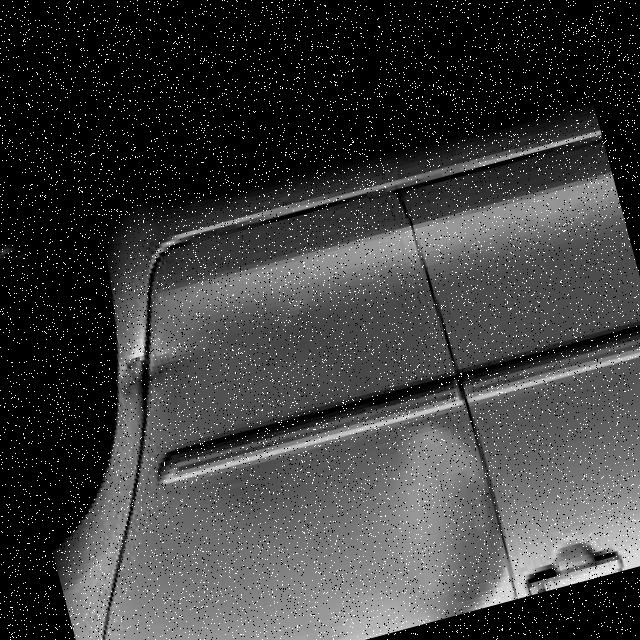Dent: (351, 406, 519, 630), (90, 294, 208, 462)
